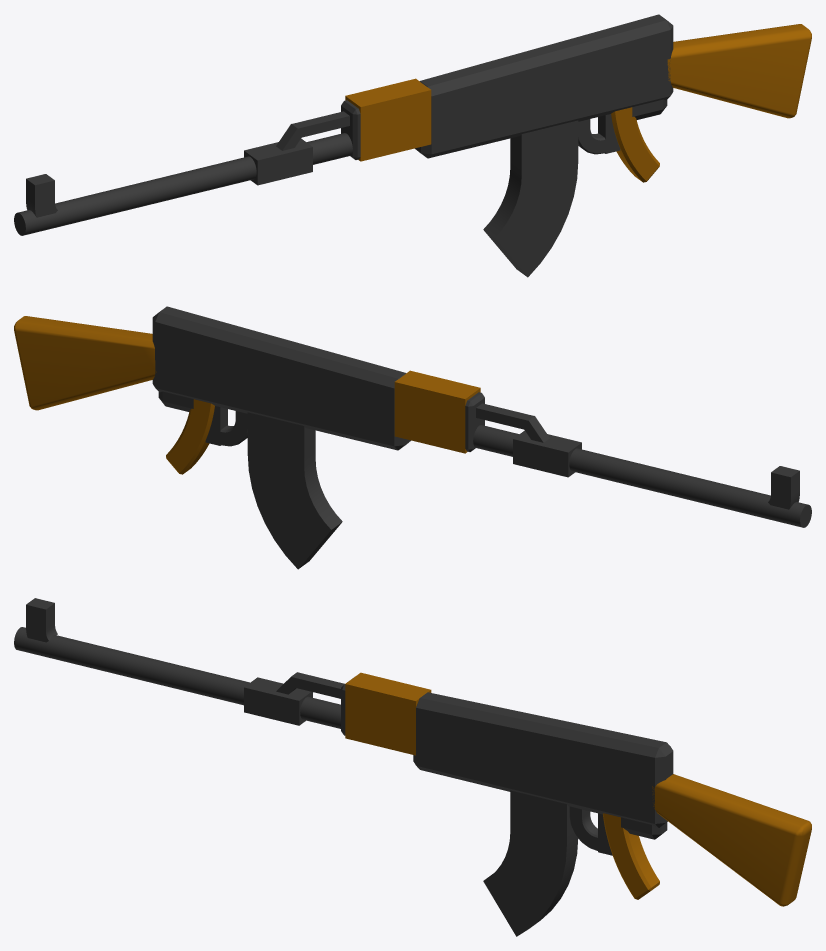
The model's file is Gun.fbx.
The picture shows the model from 3 angles, top to bottom: view 1: azimuth 30°, elevation 25°; view 2: azimuth 150°, elevation 25°; view 3: azimuth 330°, elevation 25°; orthographic projection.
Visible parts, largest first — view 1: pCube6, pasted__pasted__pCube6, pasted__pCube5, pCylinder1, pCube5, pCube3, pasted__pasted__pCube7, pCube2, pasted__pCube3, pCube4, pCube7, pasted__pCube7; view 2: pCube6, pasted__pasted__pCube6, pasted__pCube5, pCylinder1, pCube5, pCube3, pasted__pasted__pCube7, pCube2, pasted__pCube3, pCube4, pCube7, pasted__pCube7; view 3: pCube6, pasted__pasted__pCube6, pasted__pCube5, pCylinder1, pCube5, pasted__pasted__pCube7, pCube3, pCube2, pCube7, pasted__pCube3.
Part boxes in pixels (x1,y1,x2,y2): pCube6: [415, 14, 673, 158]; pasted__pasted__pCube6: [667, 24, 811, 118]; pasted__pCube5: [483, 120, 578, 277]; pCylinder1: [14, 133, 352, 235]; pCube5: [345, 78, 431, 161]; pCube3: [244, 138, 312, 185]; pasted__pasted__pCube7: [611, 107, 659, 182]; pCube2: [26, 174, 57, 217]; pasted__pCube3: [292, 111, 349, 138]; pCube4: [341, 100, 360, 159]; pCube7: [578, 119, 607, 154]; pasted__pCube7: [598, 114, 620, 153]; pCube6: [152, 306, 410, 450]; pasted__pasted__pCube6: [14, 316, 156, 410]; pasted__pCube5: [247, 412, 342, 569]; pCylinder1: [473, 425, 811, 527]; pCube5: [394, 370, 480, 453]; pCube3: [513, 430, 581, 477]; pasted__pasted__pCube7: [166, 399, 214, 474]; pCube2: [768, 466, 799, 509]; pasted__pCube3: [476, 403, 533, 430]; pCube4: [465, 392, 484, 451]; pCube7: [217, 411, 247, 446]; pasted__pCube7: [205, 406, 227, 445]; pCube6: [413, 692, 673, 827]; pasted__pasted__pCube6: [652, 774, 811, 906]; pasted__pCube5: [483, 790, 578, 936]; pCylinder1: [14, 627, 340, 728]; pCube5: [345, 672, 431, 755]; pasted__pasted__pCube7: [603, 813, 659, 899]; pCube3: [244, 677, 312, 725]; pCube2: [26, 598, 57, 642]; pCube7: [569, 806, 599, 850]; pasted__pCube3: [291, 672, 344, 698].
Size of the model in its own units: 17.71 by 4.76 by 0.604.
